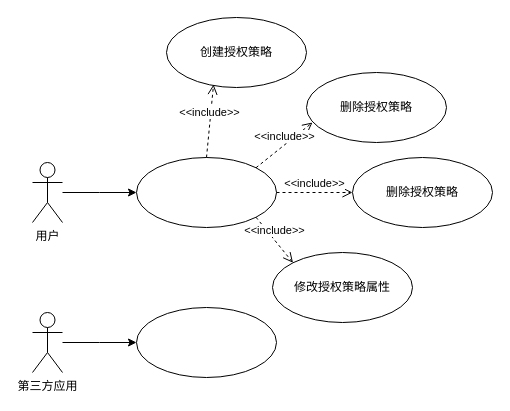
Image size: 510x411. Some labels were removed from this diagram. Here are the shapes that lost their labels. From the top down, the centre of each, then its label:
At point 206,192: "密钥管理".
At point 206,342: "资源鉴权".
